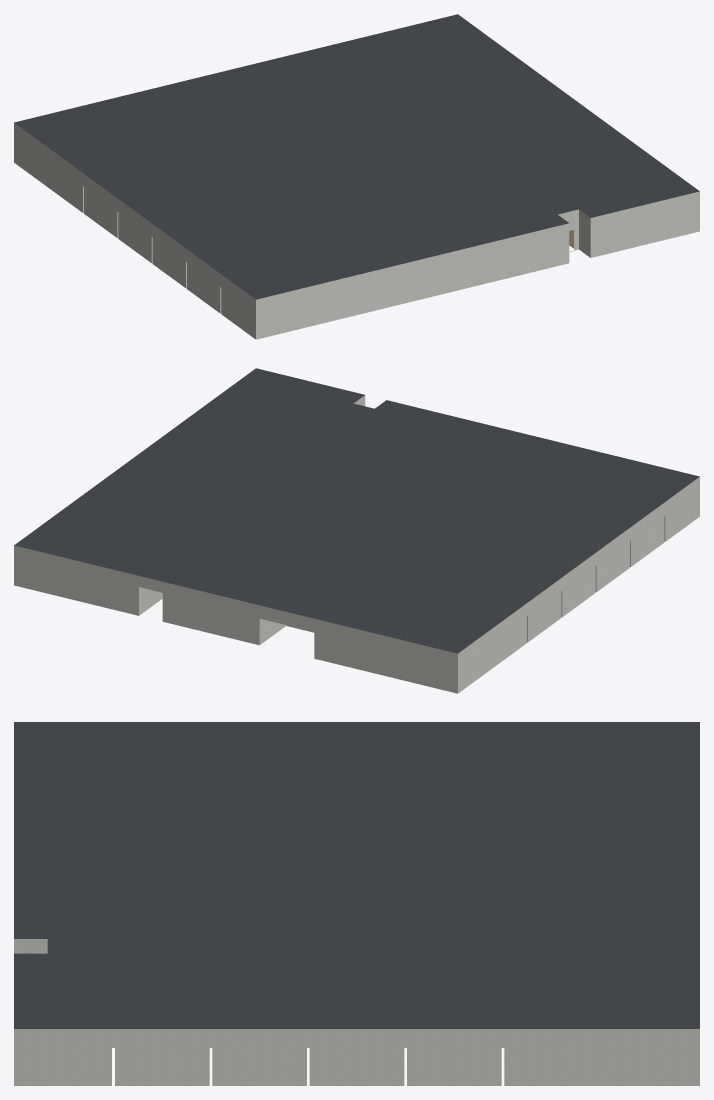
Rendered from gbi_L4_2.glb.
3 renders of one model, top to bottom at view 1: azimuth 30°, elevation 25°; view 2: azimuth 150°, elevation 25°; view 3: azimuth 270°, elevation 25°, orthographic. The views are drawn at different scales.
Parts seen in each view (by area): view 1: M_D_ceil_L4, M_D_wall_L4; view 2: M_D_ceil_L4, M_D_wall_L4, M_GBI_kit; view 3: M_D_ceil_L4, M_D_wall_L4.
Part boxes in pixels (bbox=[...]): M_D_ceil_L4: bbox=[14, 14, 699, 299]; M_D_wall_L4: bbox=[14, 123, 699, 339]; M_D_ceil_L4: bbox=[14, 368, 699, 653]; M_D_wall_L4: bbox=[14, 395, 699, 693]; M_GBI_kit: bbox=[139, 587, 309, 644]; M_D_ceil_L4: bbox=[14, 722, 699, 1028]; M_D_wall_L4: bbox=[14, 939, 699, 1085].
Size of the model in its own units: 52.2 by 4.5 by 49.3.
Materials: 32 (13 with a texture image).
